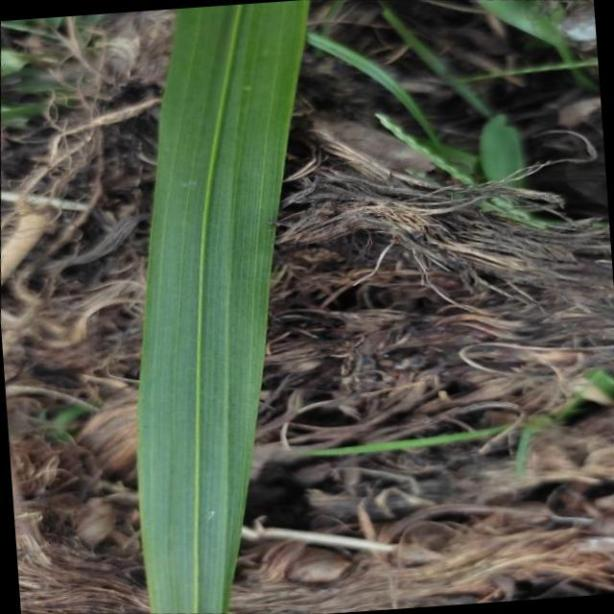Healthy: (136, 0, 312, 614)
